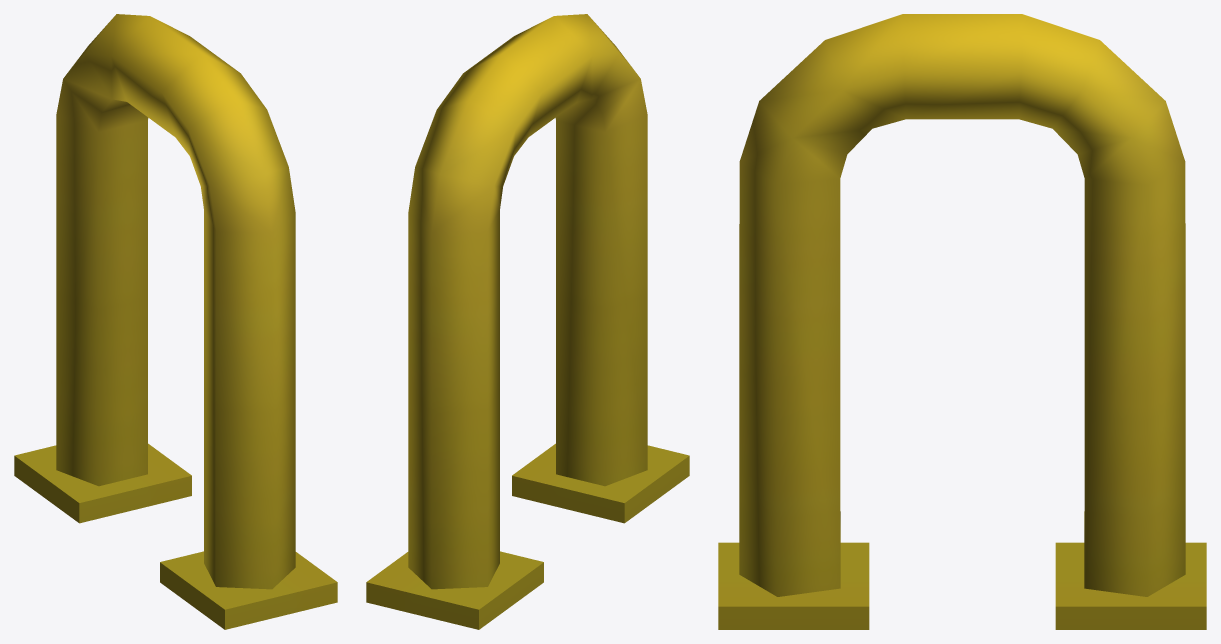
The model's file is Bollards_3_A.fbx.
3 renders of one model, left to right at view 1: azimuth 30°, elevation 25°; view 2: azimuth 150°, elevation 25°; view 3: azimuth 270°, elevation 25°, orthographic. The views are drawn at different scales.
Visible parts, largest first — view 1: Bollards_3_A; view 2: Bollards_3_A; view 3: Bollards_3_A.
Boxes of the visible parts, left/top/right/bottom form: Bollards_3_A: left=14, top=14, right=337, bottom=629; Bollards_3_A: left=366, top=14, right=689, bottom=629; Bollards_3_A: left=718, top=14, right=1206, bottom=629.
Bounding box in the file's own units: 15.3 × 65.37 × 49.51.
